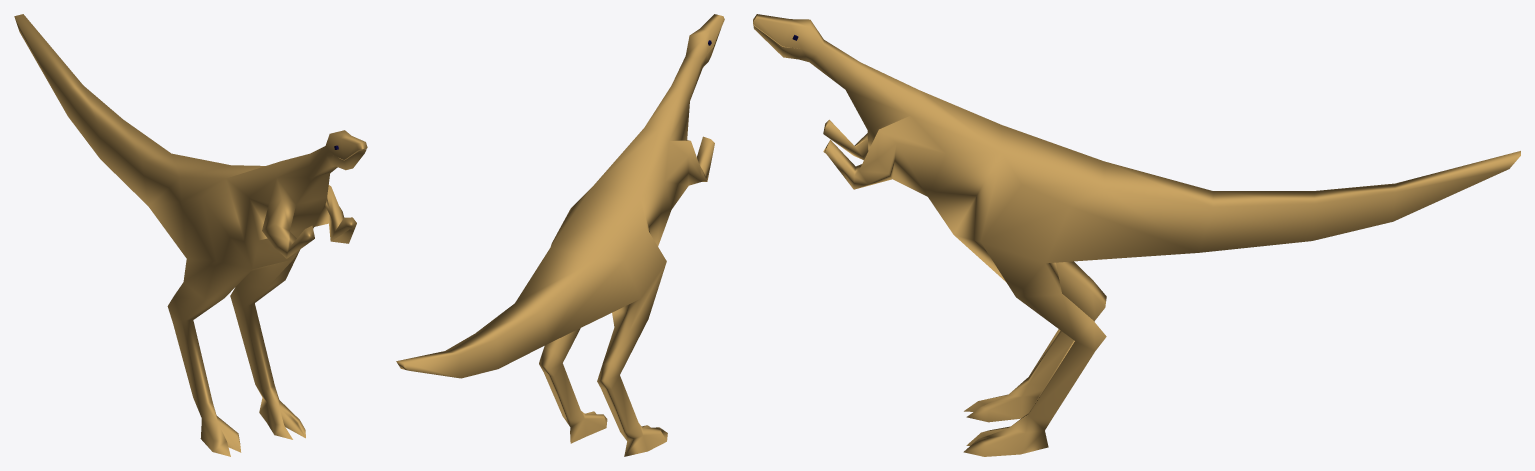
Rendered from S_Dino.FBX.
3 views of the same model, side by side, from view 1: azimuth 30°, elevation 25°; view 2: azimuth 150°, elevation 25°; view 3: azimuth 270°, elevation 25° (orthographic). The views are drawn at different scales.
Visible parts, largest first — view 1: model; view 2: model; view 3: model.
Part boxes in pixels (bbox=[...]): model: bbox=[14, 14, 367, 456]; model: bbox=[396, 14, 724, 456]; model: bbox=[753, 14, 1520, 456].
Bounding box in the file's own units: 4.3 × 16.51 × 27.65.
